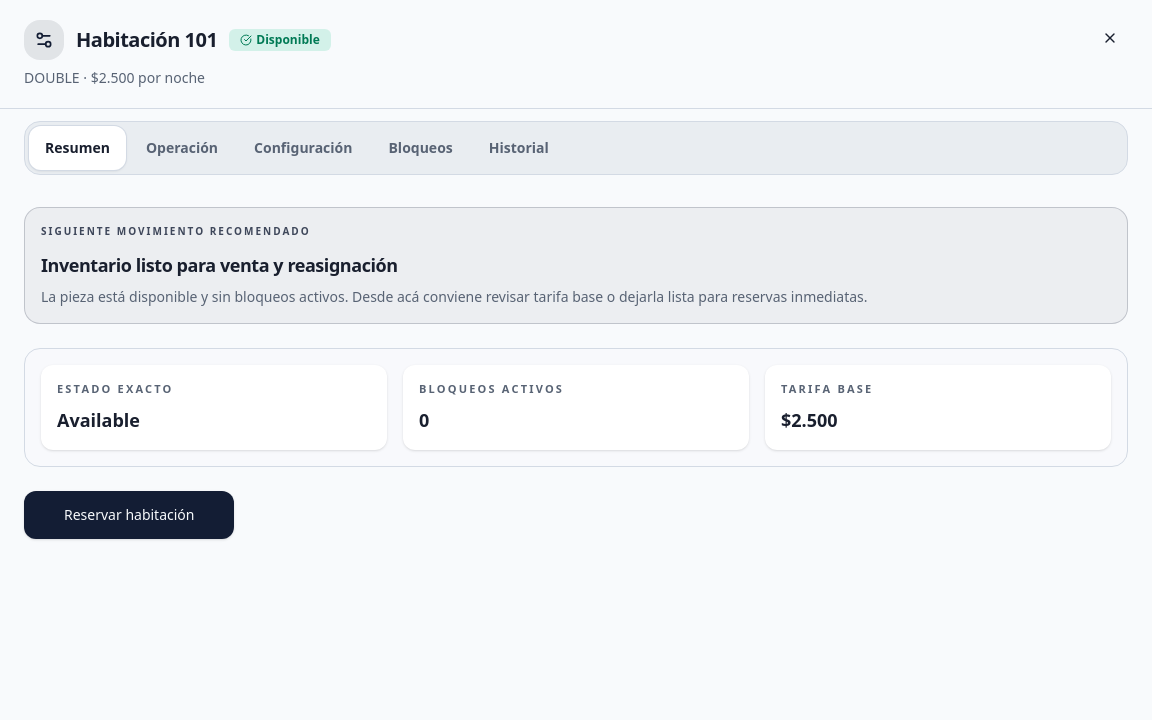
RoomDetailWorkspace › blocks hold creation without a reason or with invalid dates
Click the tab "Bloqueos" at [421, 148], box [372,126,469,170]
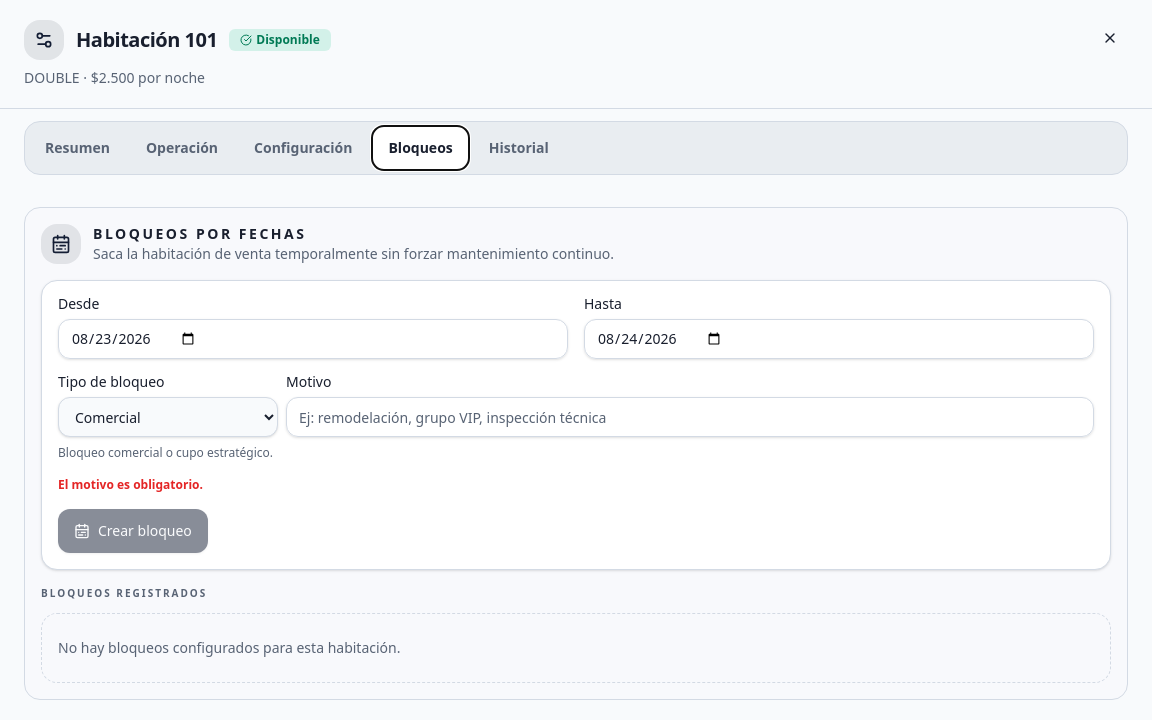
Expected: the button "Crear bloqueo" is disabled, [58,509,208,553]
Expected: the text "El motivo es obligatorio." is shown, [58,476,203,493]
